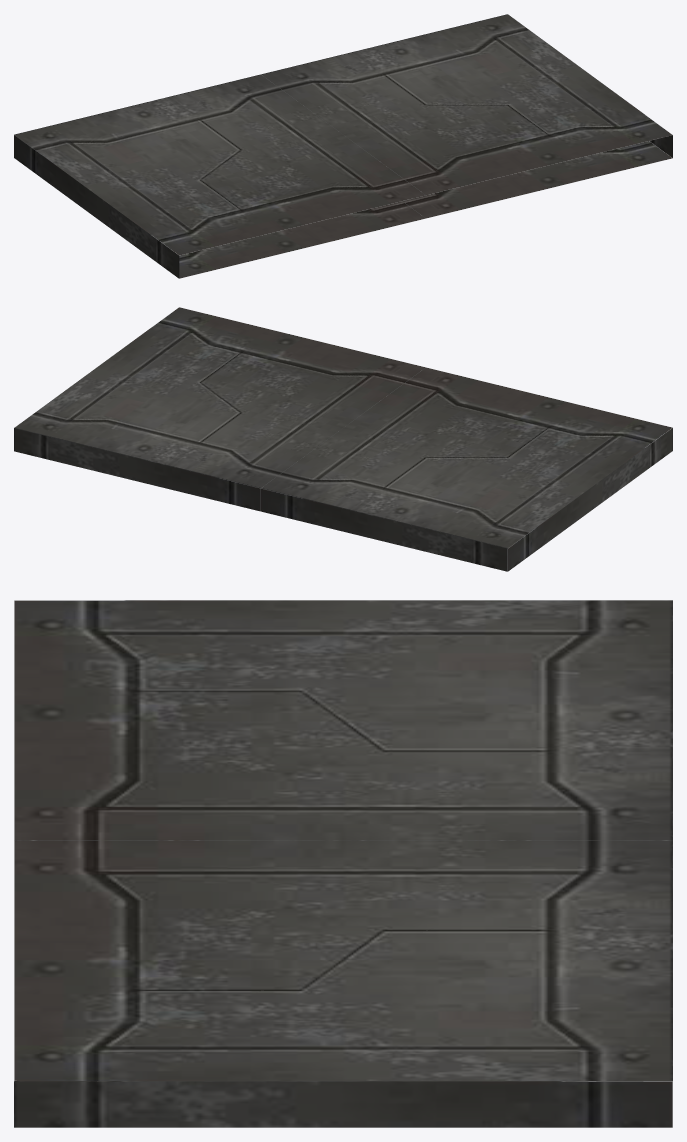
Rendered from SM_wall_001.fbx.
The picture shows the model from 3 angles, top to bottom: view 1: azimuth 30°, elevation 25°; view 2: azimuth 150°, elevation 25°; view 3: azimuth 270°, elevation 25°; orthographic projection. The views are drawn at different scales.
Visible parts, largest first — view 1: SM_wall_001; view 2: SM_wall_001; view 3: SM_wall_001.
Boxes of the visible parts, x1,y1,x2,y2 form: SM_wall_001: (14, 14, 672, 278); SM_wall_001: (14, 307, 672, 571); SM_wall_001: (14, 600, 672, 1127).
Size of the model in its own units: 10 by 0.45 by 5.79.
